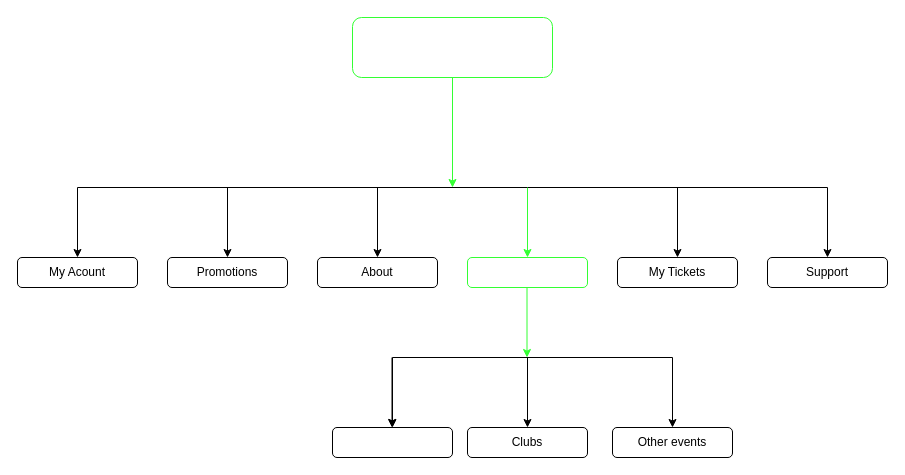
This 905x475 diagram has some shape labels left out. The shapes that lost their labels are listed below. From the top down, each one's centre as x and y in pixels, then its label:
the point at 452,47: Partyplanner.com
the point at 527,272: Home
the point at 392,442: Concerts
